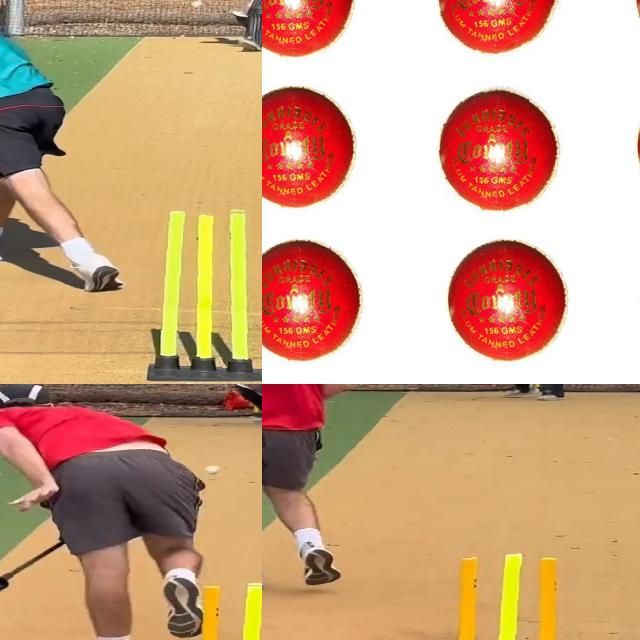Cricket ball: (433, 234, 583, 374), (428, 81, 571, 219), (262, 231, 373, 371), (262, 76, 379, 208), (422, 0, 565, 66), (262, 0, 366, 60), (205, 464, 221, 475), (187, 1, 206, 10)
Stumps: (148, 206, 262, 381), (437, 553, 577, 640)
